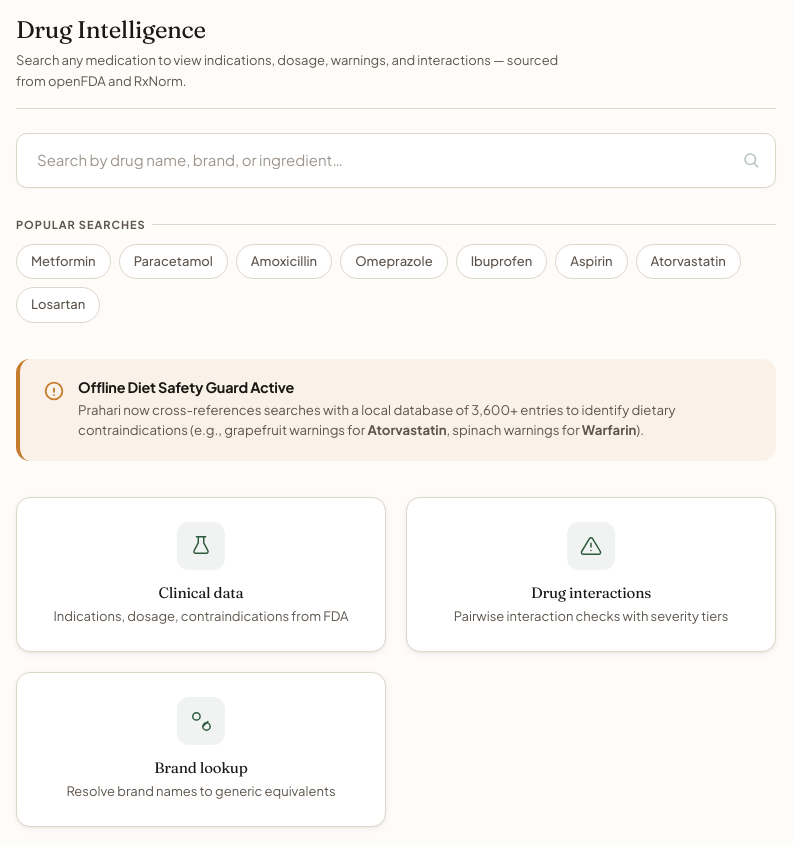
Scenario: MedicationsPage Component Integration › handles search query errors and allows clear search
Type "Aspirin" into the search field with placeholder "Search by drug name, brand, or ingredient…" at (396,160), box [16,133,776,188]
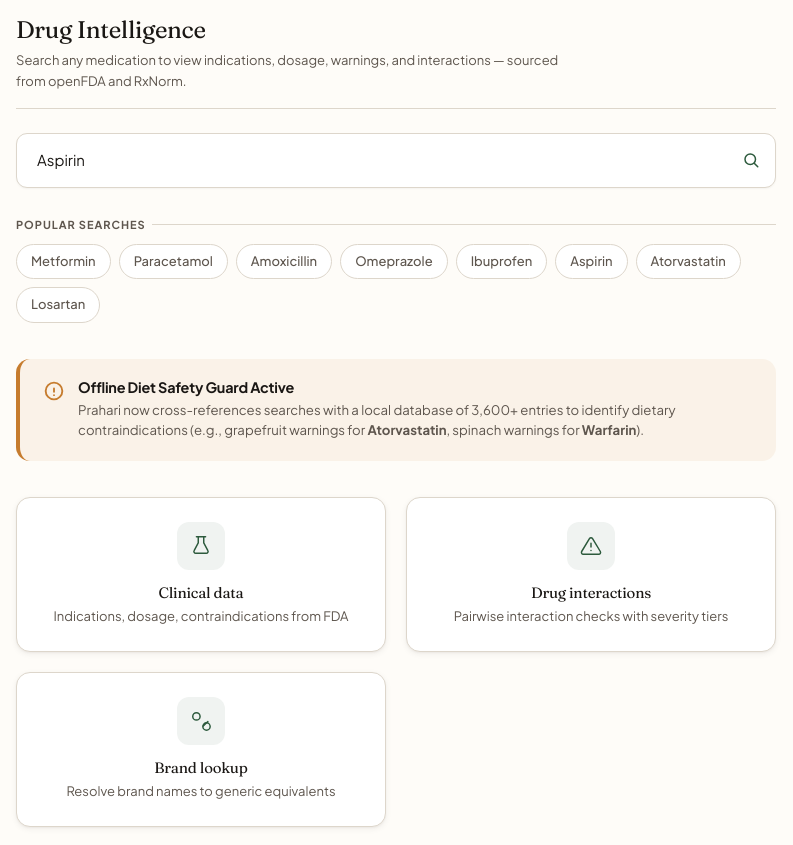
Click the button named "Search" at (751,160), box [738,147,764,173]
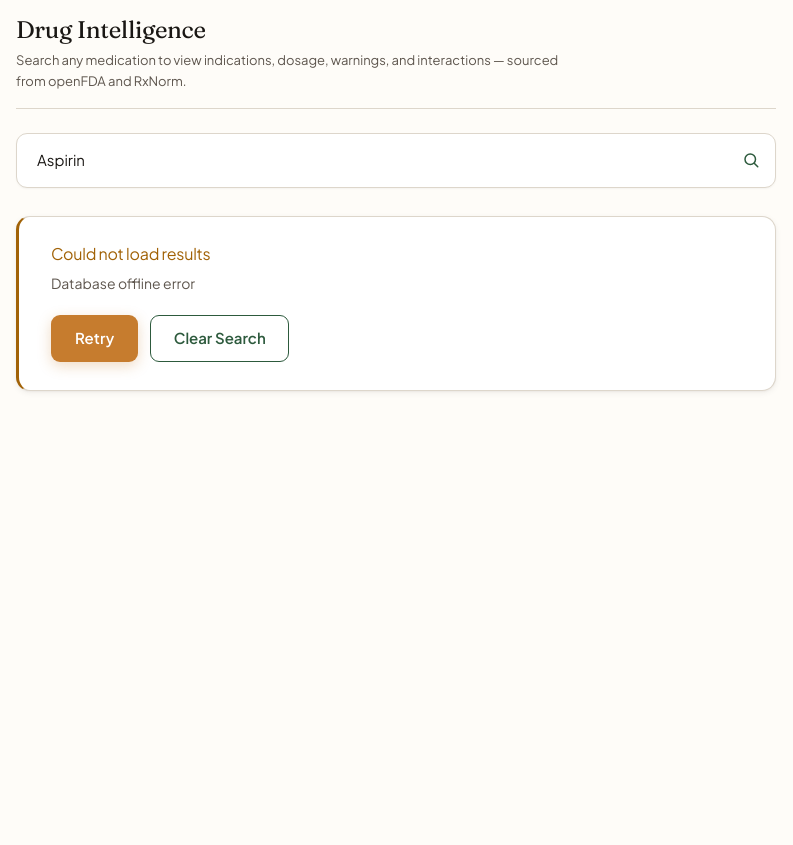
Expected: the text "Database offline error" is shown, [51,274,195,292]
# Click clear search (visible on error card)
Click the button "Clear Search" at (220,338), box [150,315,289,362]
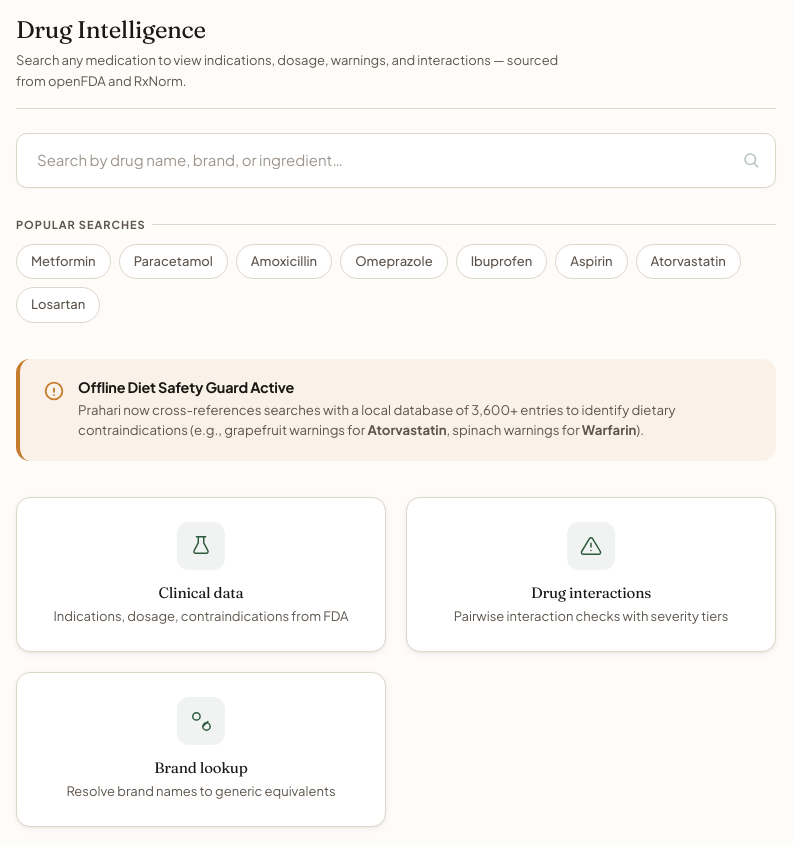
Expected: the text "Database offline error" is gone
Expected: the search field with placeholder "Search by drug name, brand, or ingredient…" is empty, [16,133,776,188]
